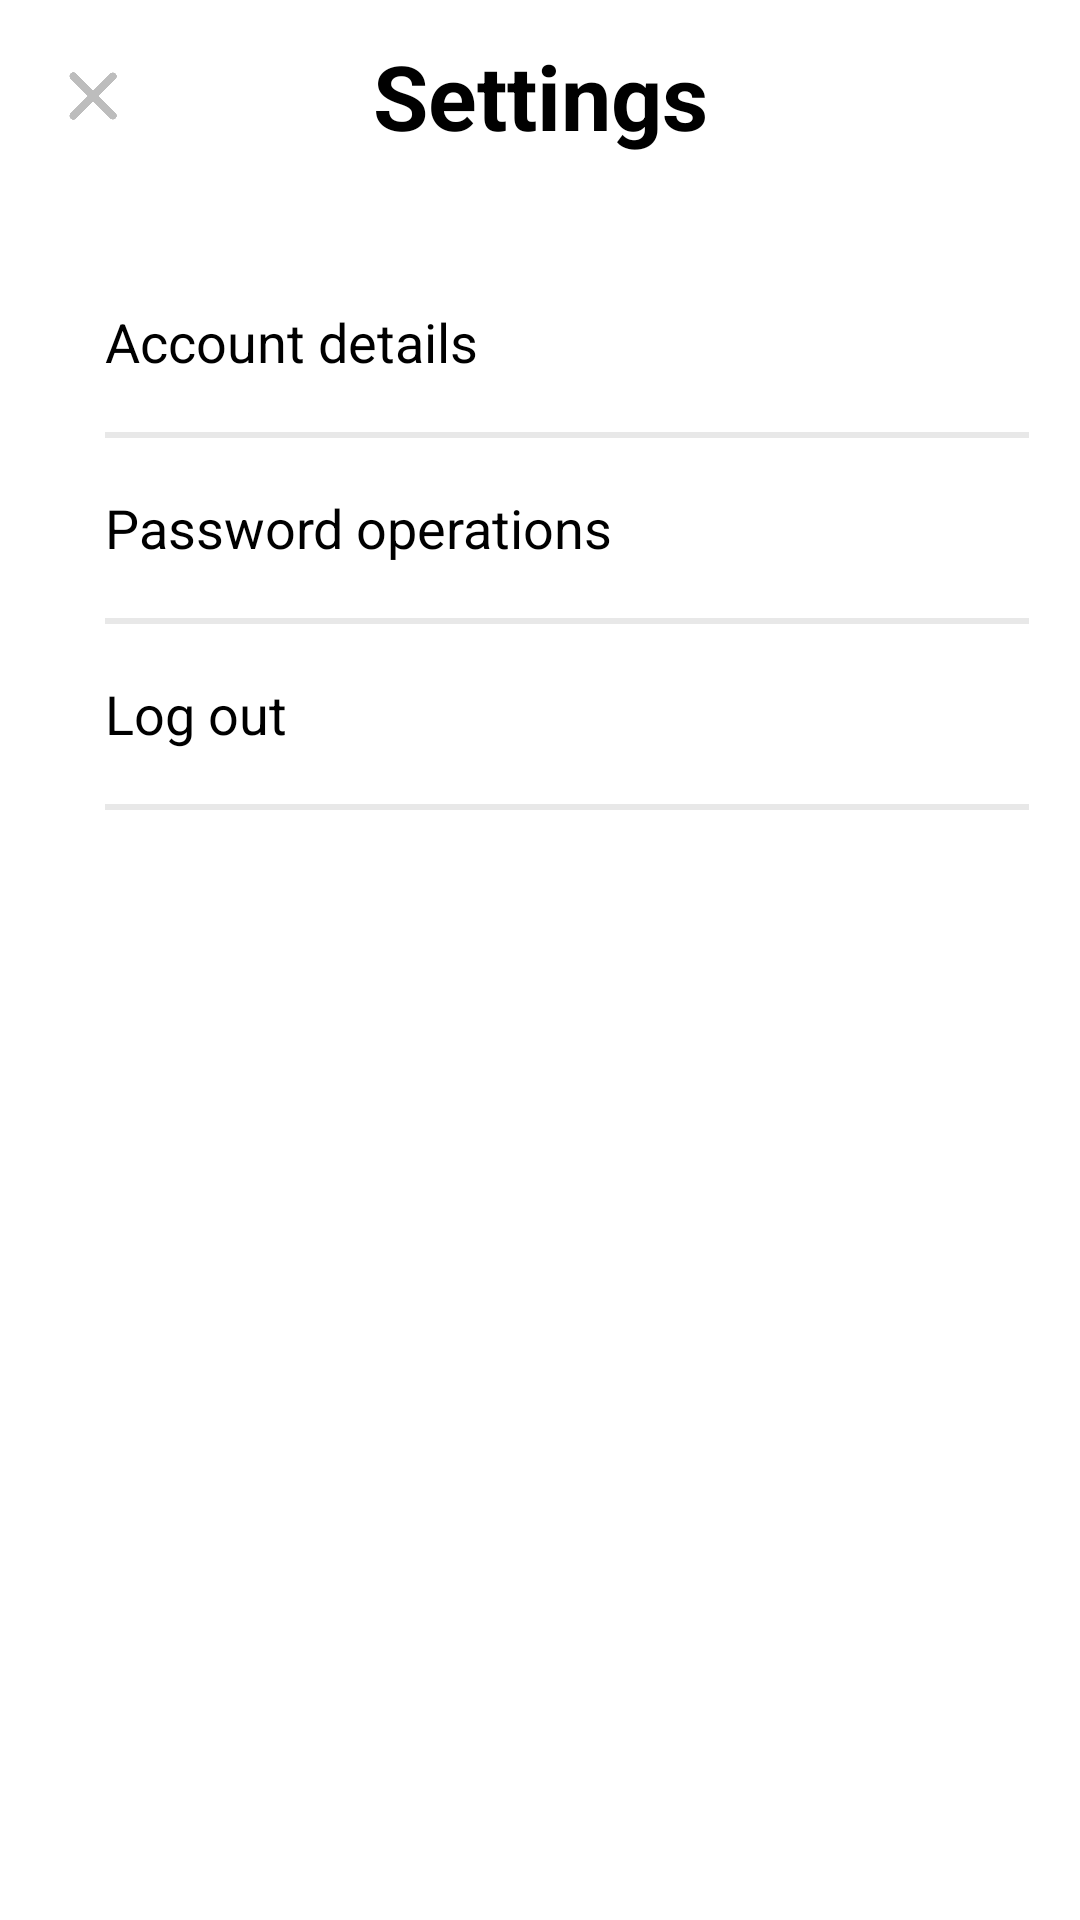

Named icons in this screenshot (1080x1920) and their centers, (x=x, y=y):
back: (x=93, y=96)
